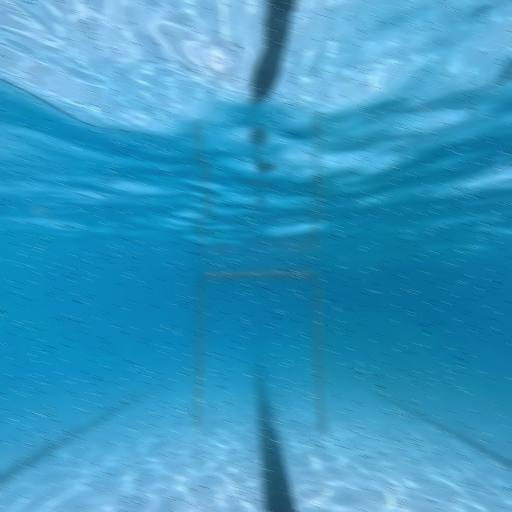gate: (195, 272, 327, 430)
